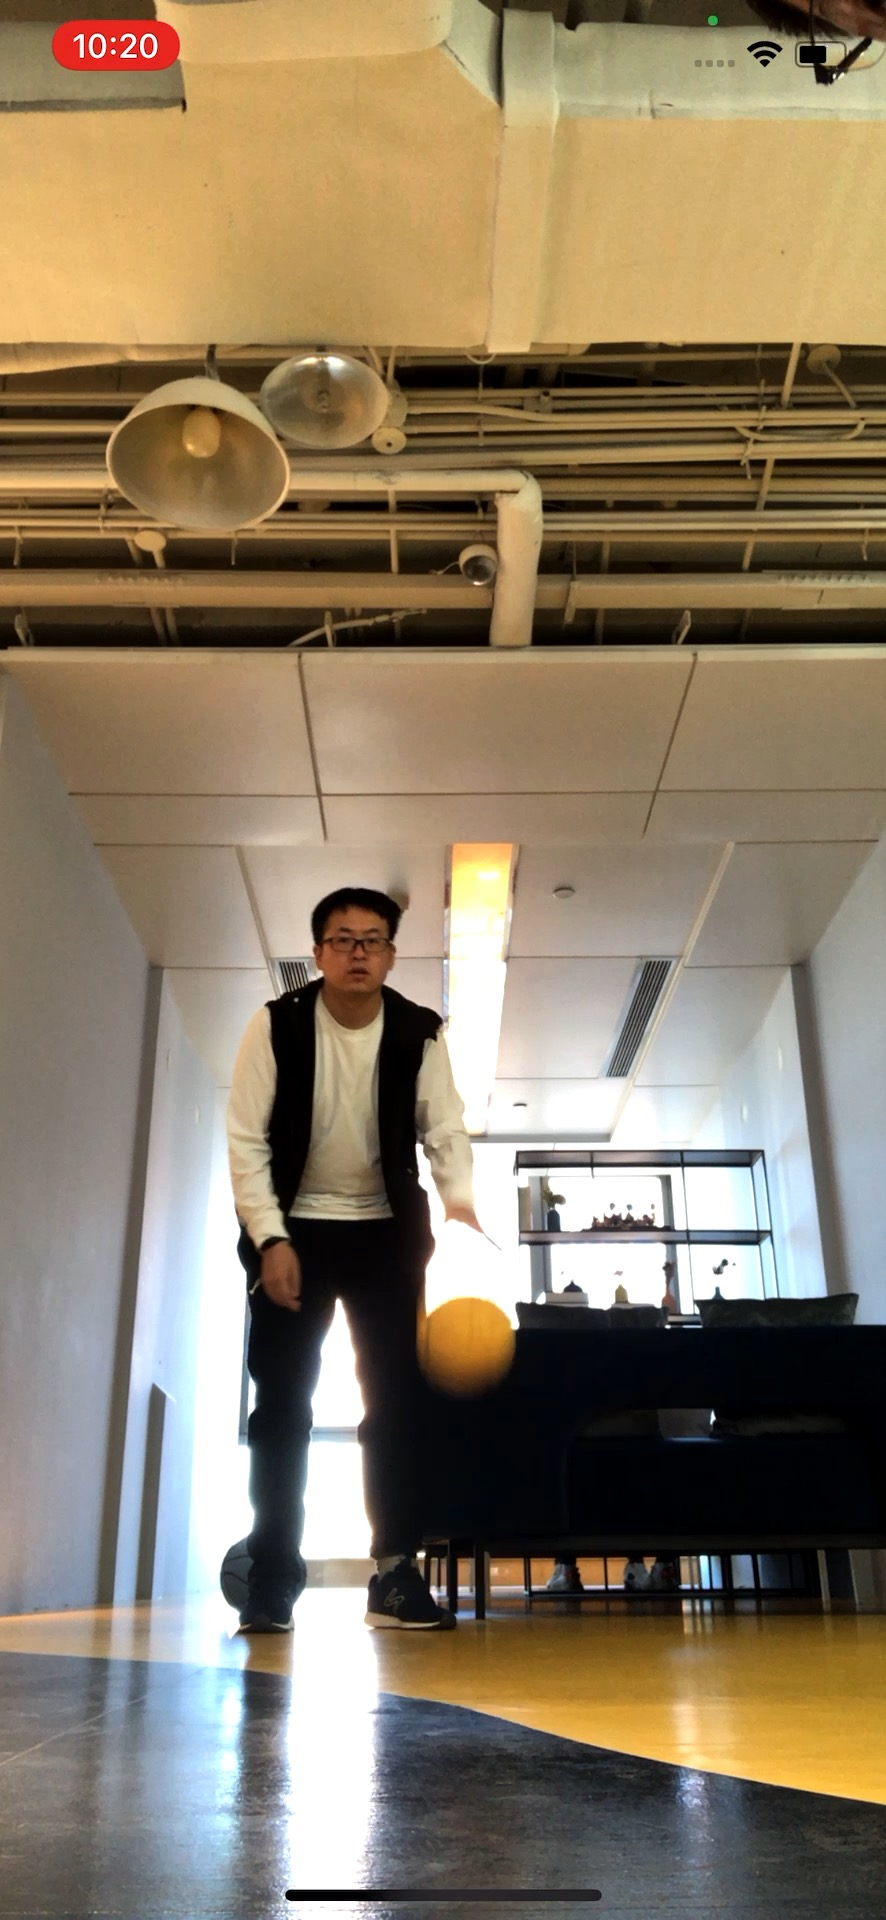ball: (414, 1296, 518, 1392)
